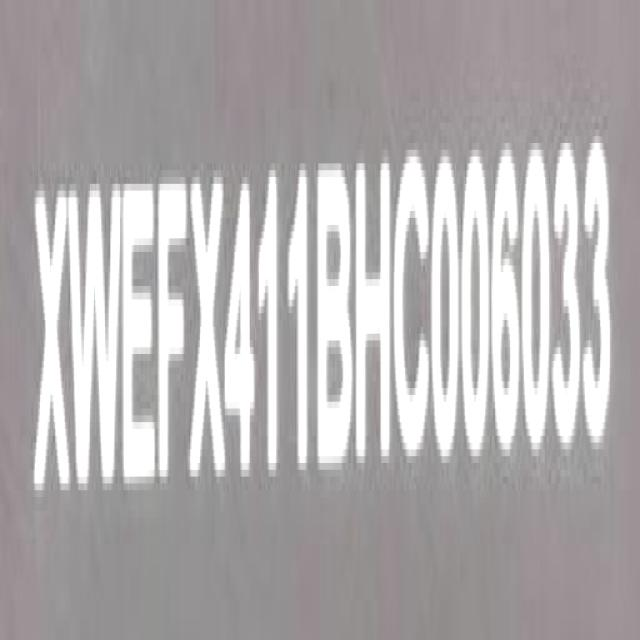0: (432, 148, 462, 468), (463, 150, 492, 465), (523, 141, 551, 458)
1: (288, 163, 314, 487), (258, 163, 282, 488)
3: (586, 137, 619, 456), (551, 138, 580, 460)
4: (224, 168, 256, 494)
6: (492, 139, 524, 461)
B: (317, 162, 355, 482)
C: (396, 152, 434, 470)
E: (122, 171, 160, 499)
F: (157, 171, 190, 497)
H: (355, 154, 395, 475)
W: (70, 176, 124, 505)
X: (190, 163, 228, 493), (34, 182, 72, 509)
